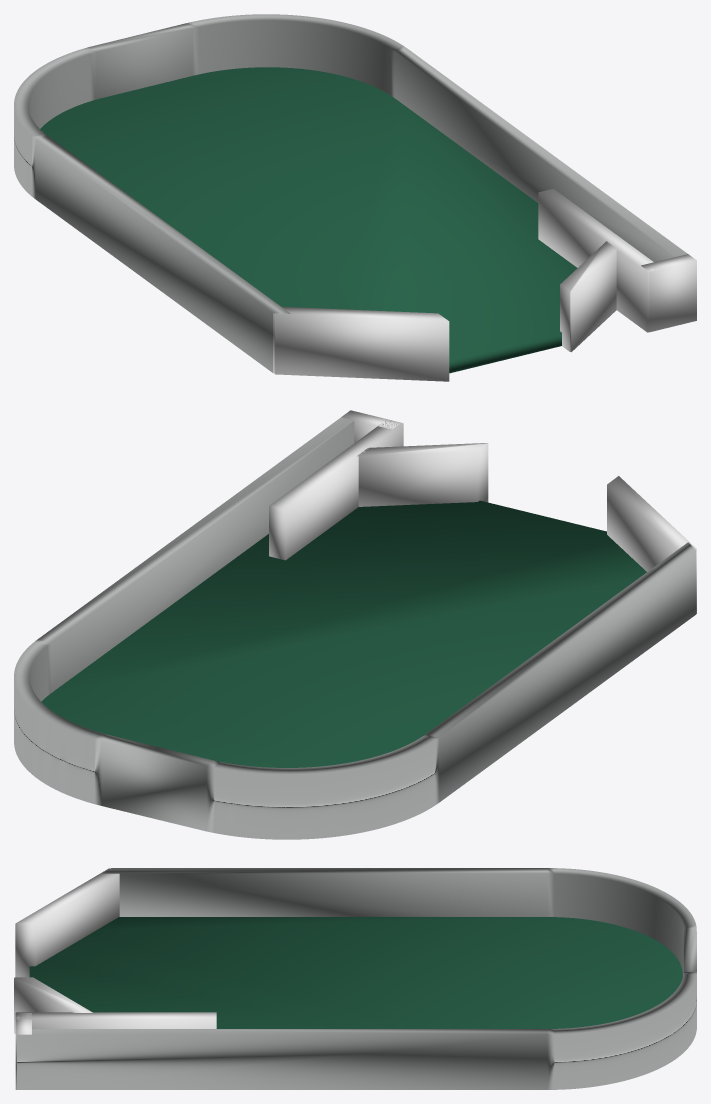
Rendered from BaseFlipper.glb.
3 views of the same model, one above another, from view 1: azimuth 30°, elevation 25°; view 2: azimuth 150°, elevation 25°; view 3: azimuth 270°, elevation 25° (orthographic). The views are drawn at different scales.
Parts seen in each view (by area): view 1: Sol, Murs; view 2: Sol, Murs; view 3: Murs, Sol.
Boxes of the visible parts, left/top/right/bottom form: Sol: left=40, top=67, right=577, bottom=373; Murs: left=14, top=14, right=696, bottom=381; Sol: left=41, top=500, right=646, bottom=767; Murs: left=14, top=410, right=696, bottom=839; Murs: left=14, top=868, right=696, bottom=1089; Sol: left=29, top=917, right=682, bottom=1028.
Size of the model in its own units: 5.68 by 0.885 by 9.83.
